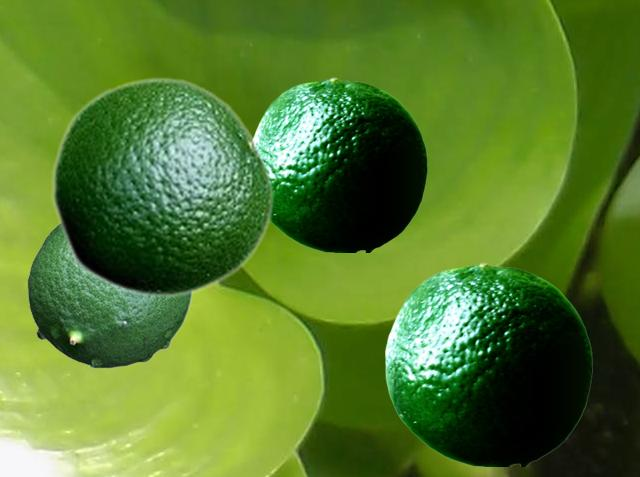calamansi: (50, 76, 274, 298), (385, 262, 591, 465), (254, 77, 426, 251), (27, 224, 192, 367)
